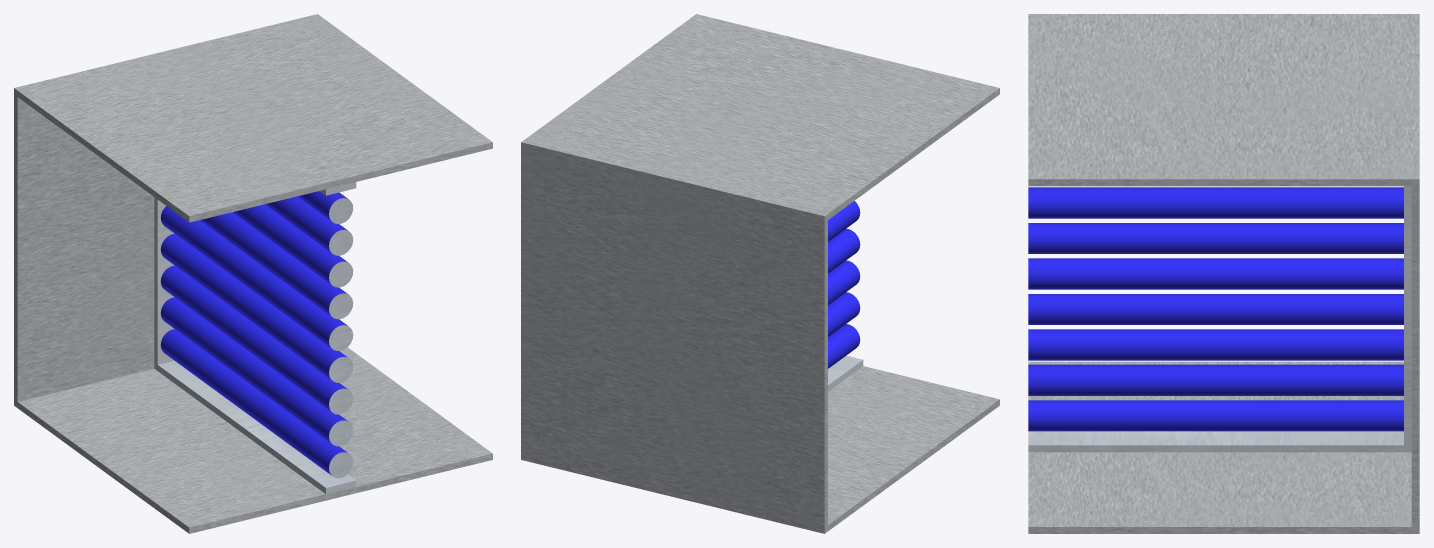
File: Duct_EW_Clg_1m.gltf
The picture shows the model from 3 angles, left to right: view 1: azimuth 30°, elevation 25°; view 2: azimuth 150°, elevation 25°; view 3: azimuth 270°, elevation 25°; orthographic projection. The views are drawn at different scales.
Parts seen in each view (by area): view 1: root; view 2: root; view 3: root.
Part boxes in pixels (x1,y1,x2,y2): root: (14, 14, 492, 533); root: (521, 14, 999, 533); root: (1028, 14, 1419, 533).
Size of the model in its own units: 1 by 1 by 1.
Materials: 3 (2 with a texture image).
